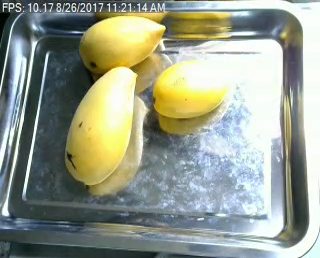Mango: (64, 65, 137, 186), (79, 15, 165, 71), (152, 59, 235, 116)
